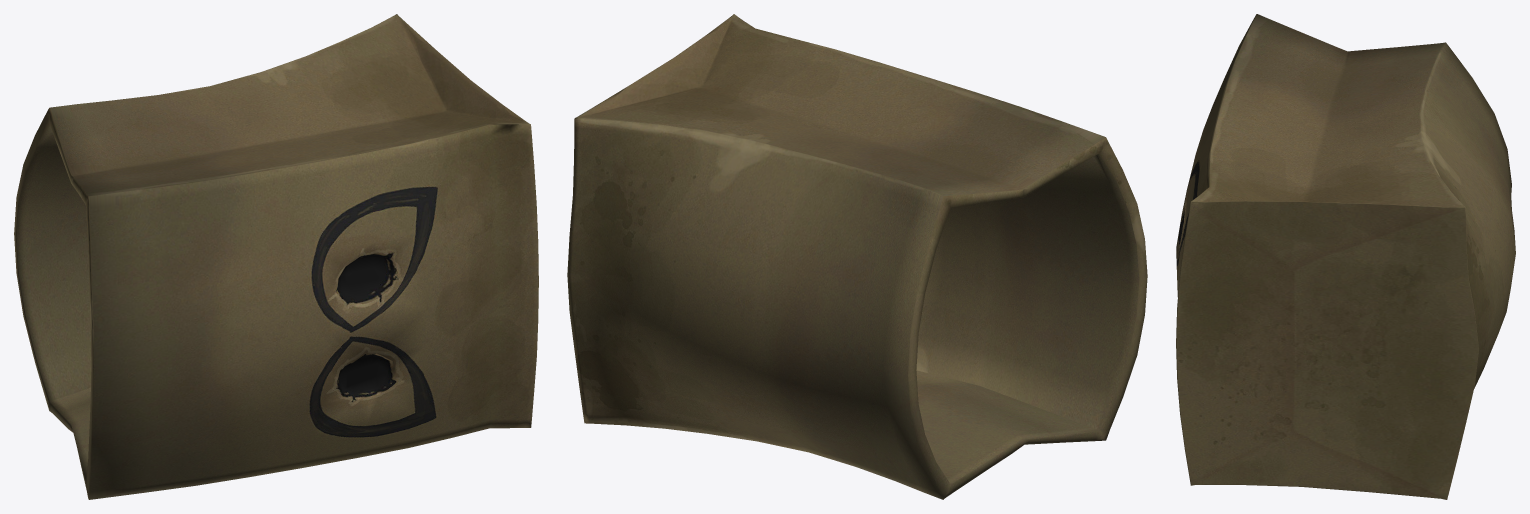
File: PaperBagMask.fbx
The picture shows the model from 3 angles, left to right: view 1: azimuth 30°, elevation 25°; view 2: azimuth 150°, elevation 25°; view 3: azimuth 270°, elevation 25°; orthographic projection. The views are drawn at different scales.
Visible parts, largest first — view 1: sm_6.002; view 2: sm_6.002; view 3: sm_6.002.
Boxes of the visible parts, x1=… form: sm_6.002: x1=14, y1=14, x2=538, y2=499; sm_6.002: x1=567, y1=14, x2=1147, y2=499; sm_6.002: x1=1176, y1=14, x2=1515, y2=499.
Size of the model in its own units: 0.2237 by 0.1533 by 0.1606.
